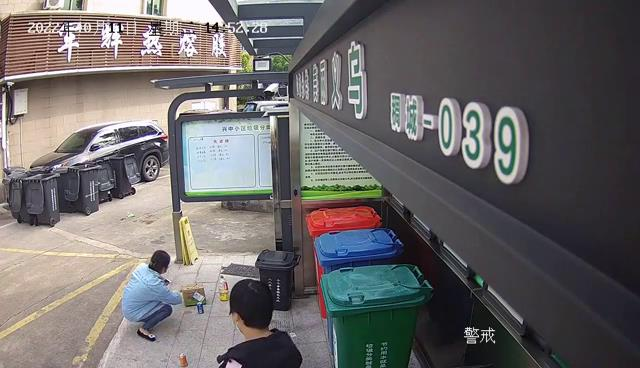lvzhipin: (178, 351, 187, 368), (196, 300, 204, 314)
person: (214, 278, 304, 368)
suliaozhipin: (216, 273, 229, 302)
worker: (120, 249, 184, 341)
zhizhipin: (182, 284, 208, 307)
